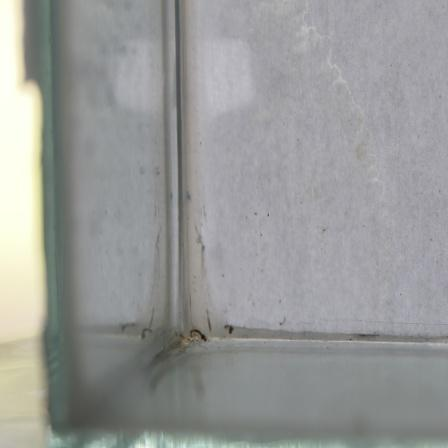Jentik-Nyamuk: (183, 323, 210, 346), (219, 322, 237, 338)
